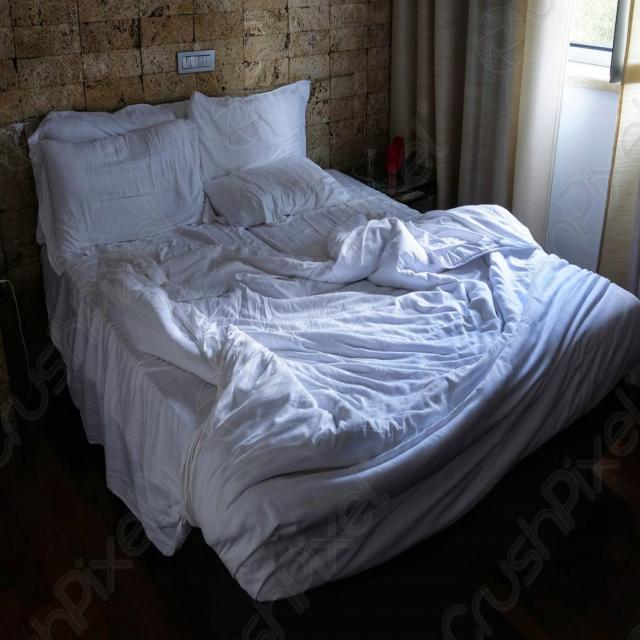bed: (20, 72, 625, 612)
